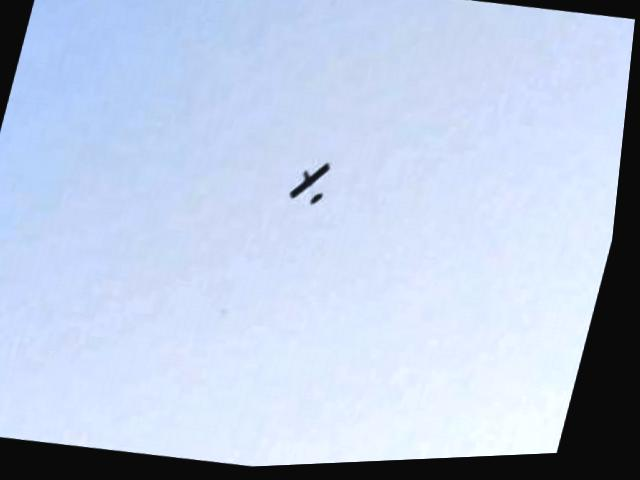uav: (286, 152, 348, 220)
